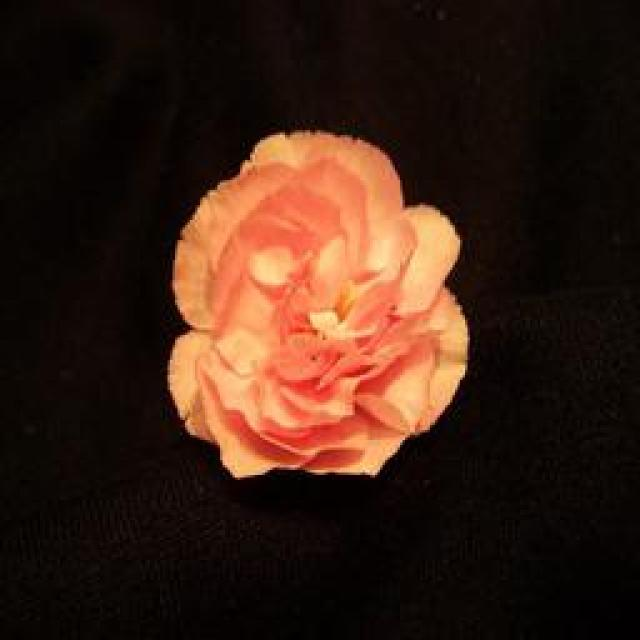carnation: (150, 88, 482, 500)
